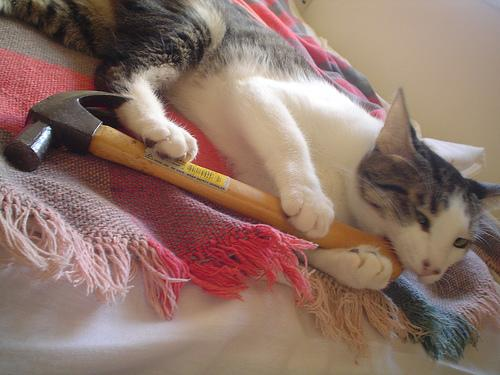hammer: (0, 88, 402, 279)
